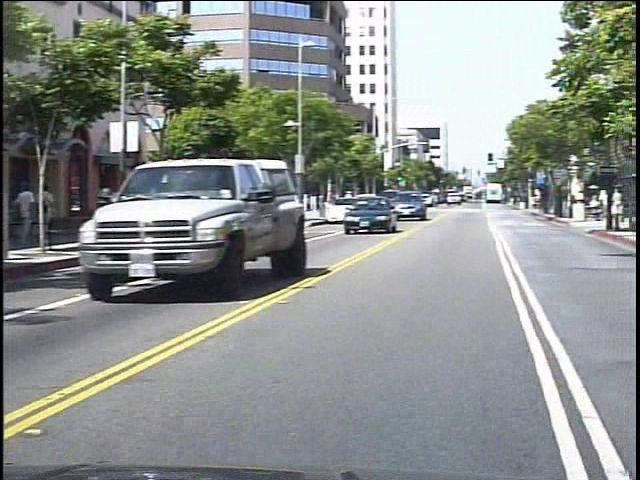person: (24, 179, 48, 244), (44, 181, 65, 246)
